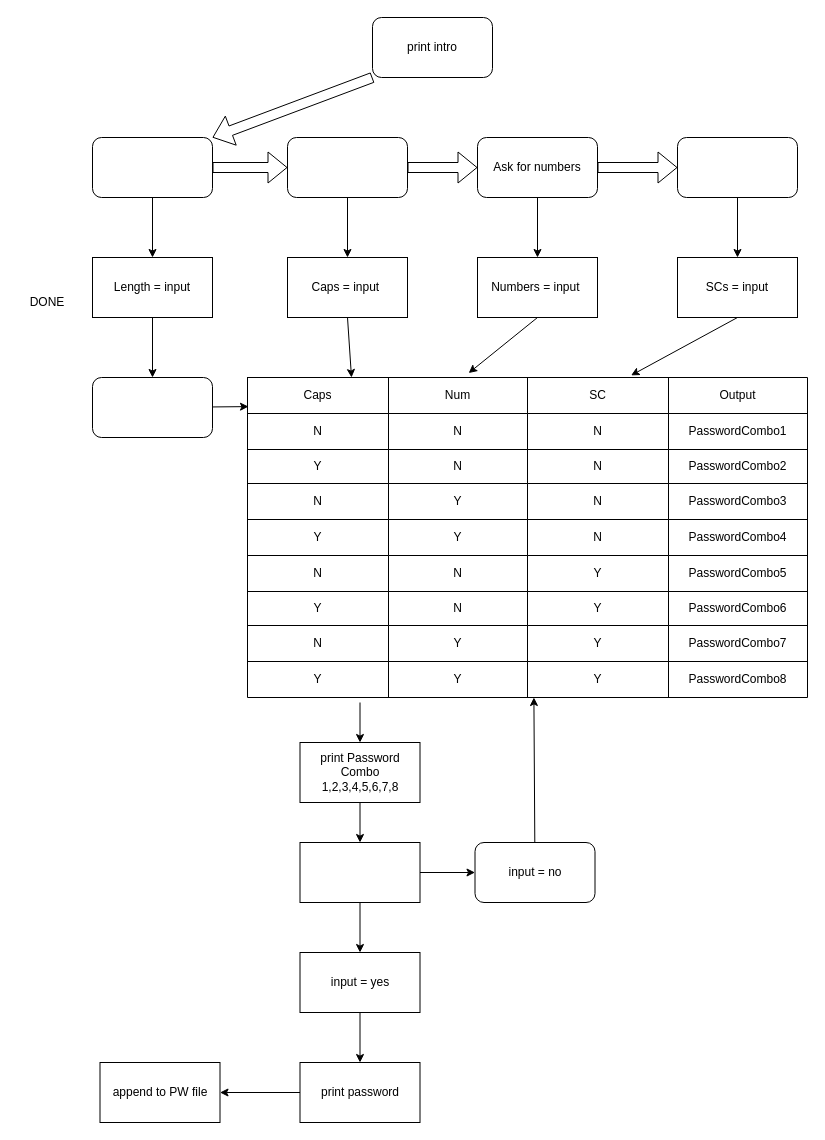
This 825x1140 diagram has some shape labels left out. The centre of each missing label's shape, as x and y in pixels:
"Ask for characters" belongs at pixel 347 167.
"Ask for length" belongs at pixel 152 167.
"Ask for SCs" belongs at pixel 737 167.
"Ask user if they are happy with it" belongs at pixel 359 872.
"Generate length" belongs at pixel 152 407.
